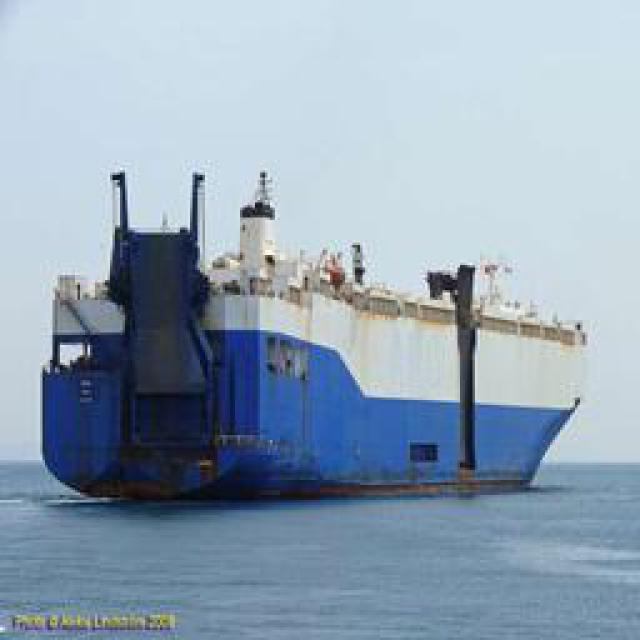Ship: (40, 153, 590, 501)
